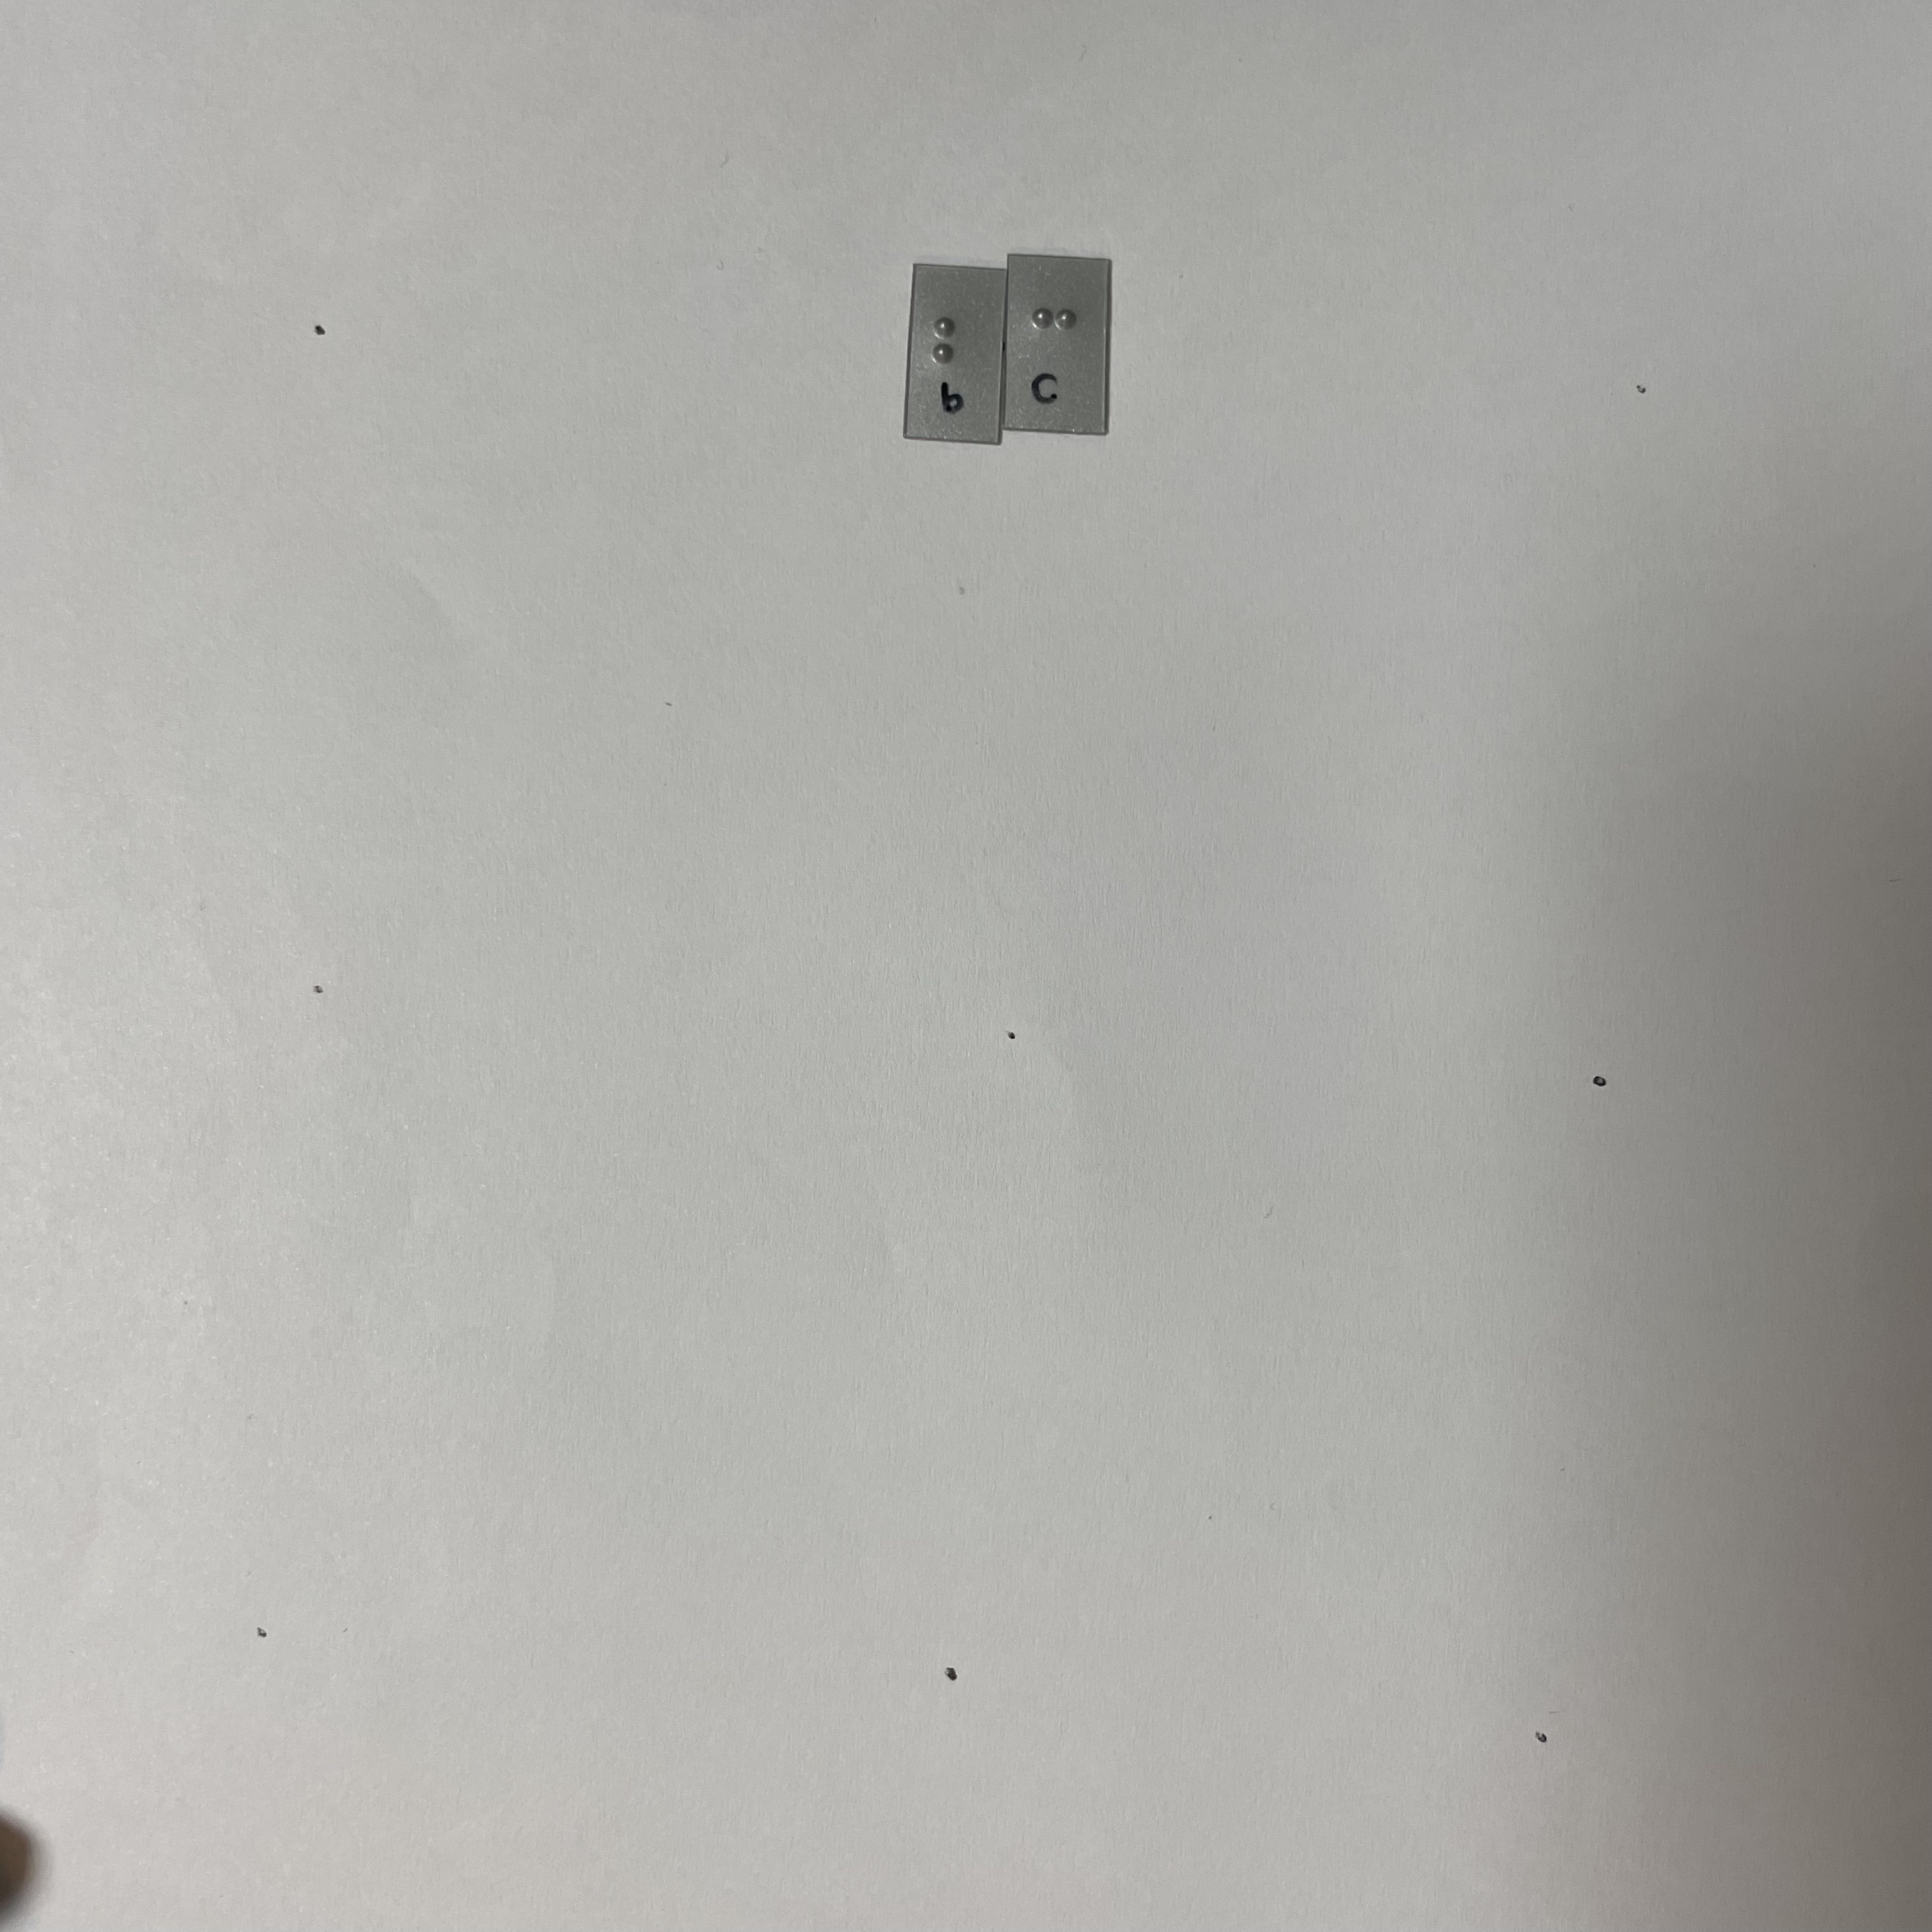b: (925, 301, 994, 393)
c: (1025, 294, 1089, 388)
